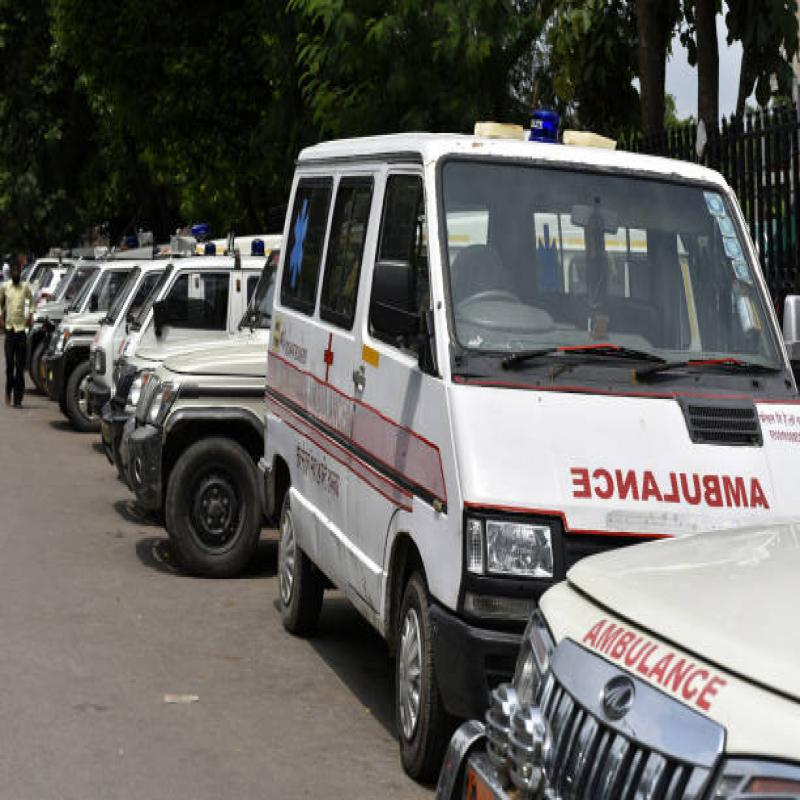ambulance: (256, 68, 800, 741)
